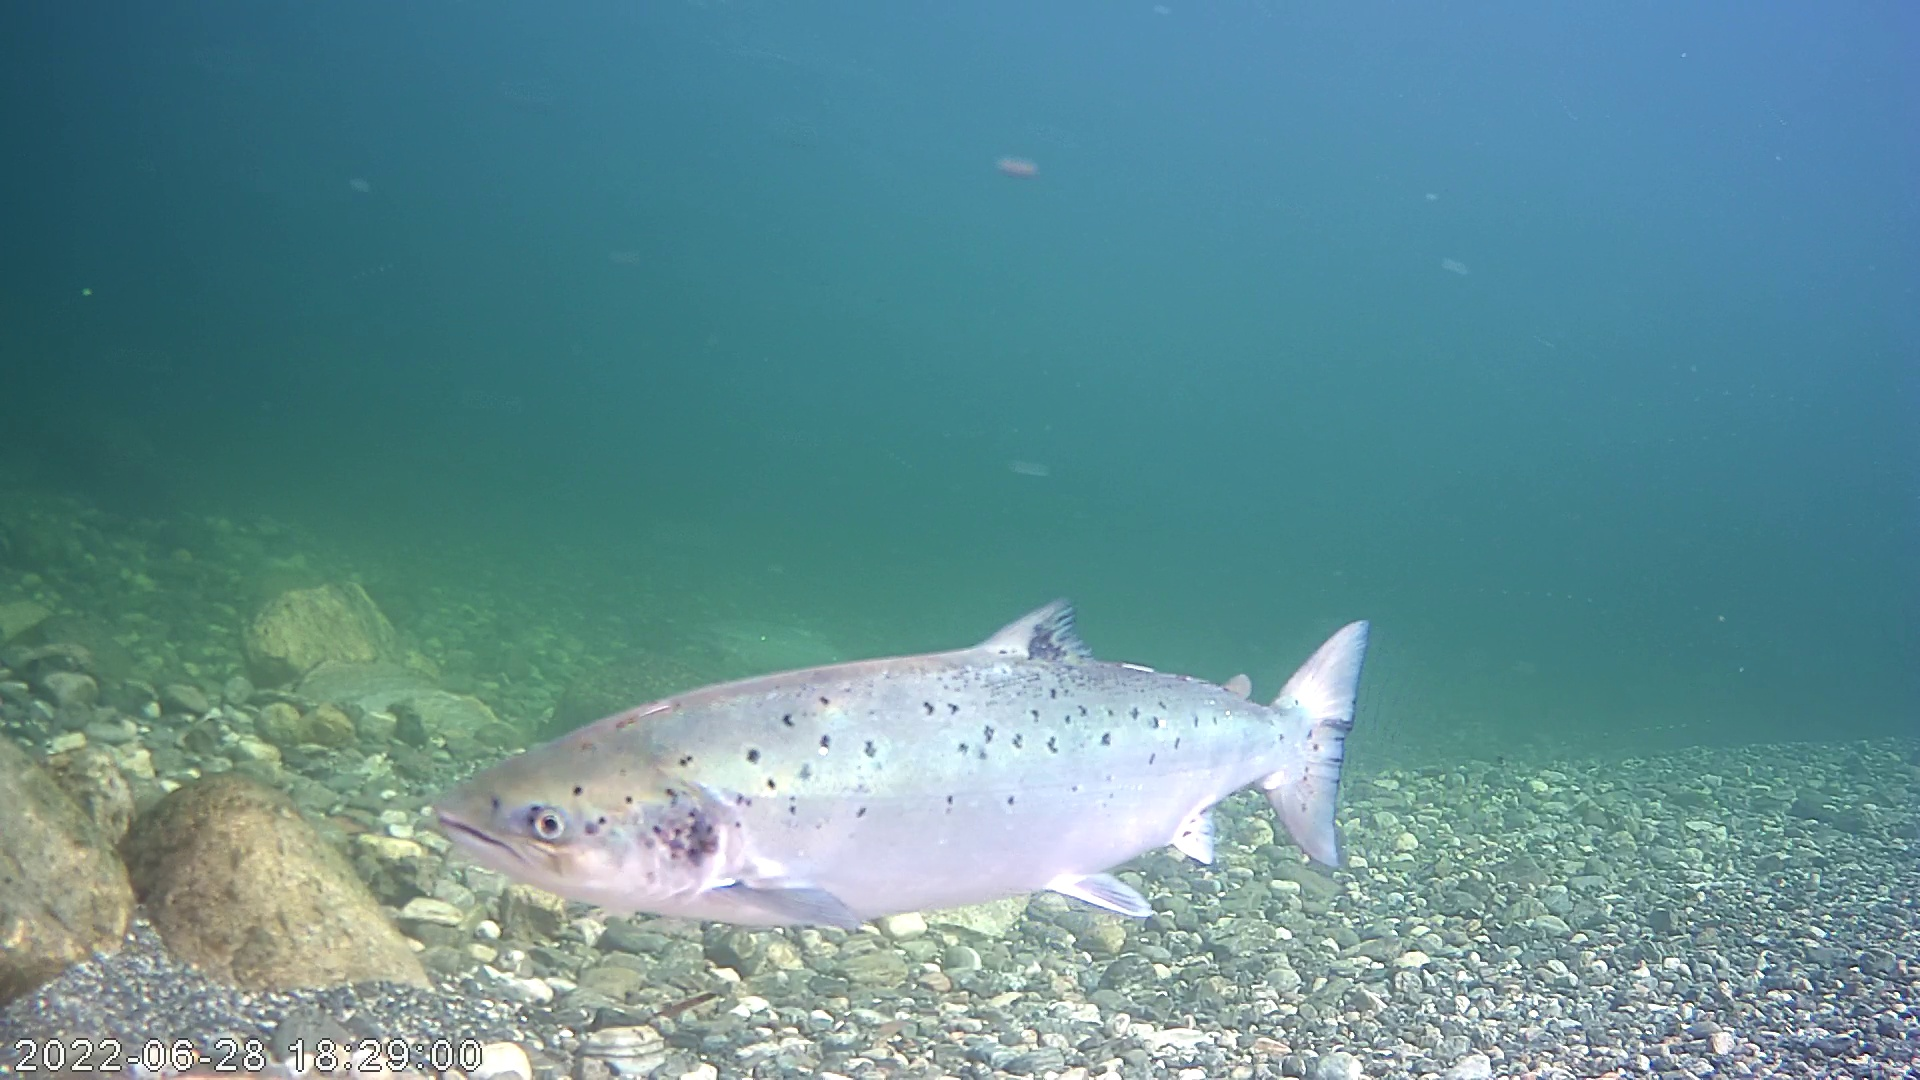salmon: (419, 535, 1382, 916)
